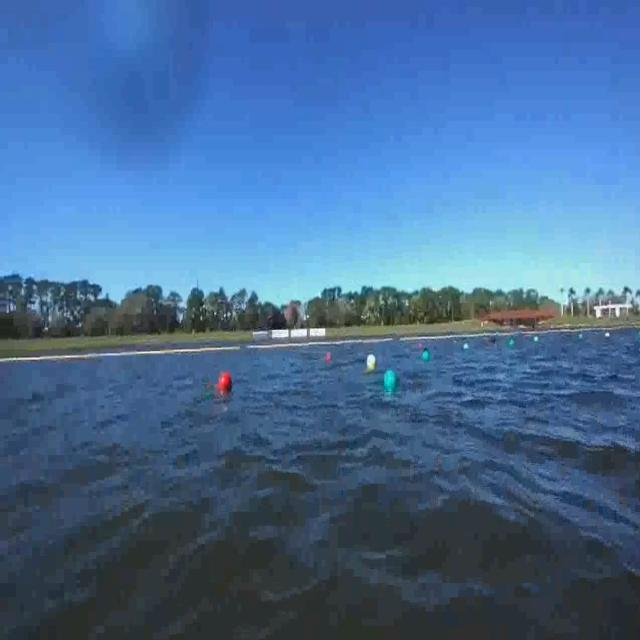green-buoy: (382, 369, 396, 390), (422, 350, 431, 363)
red-buoy: (219, 374, 232, 393), (329, 352, 334, 363)
yellow-buoy: (366, 354, 376, 370)
